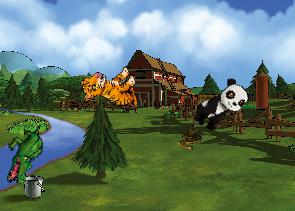crocodile: (6, 124, 43, 184)
panda: (188, 74, 254, 137)
tiger: (78, 60, 143, 120)
